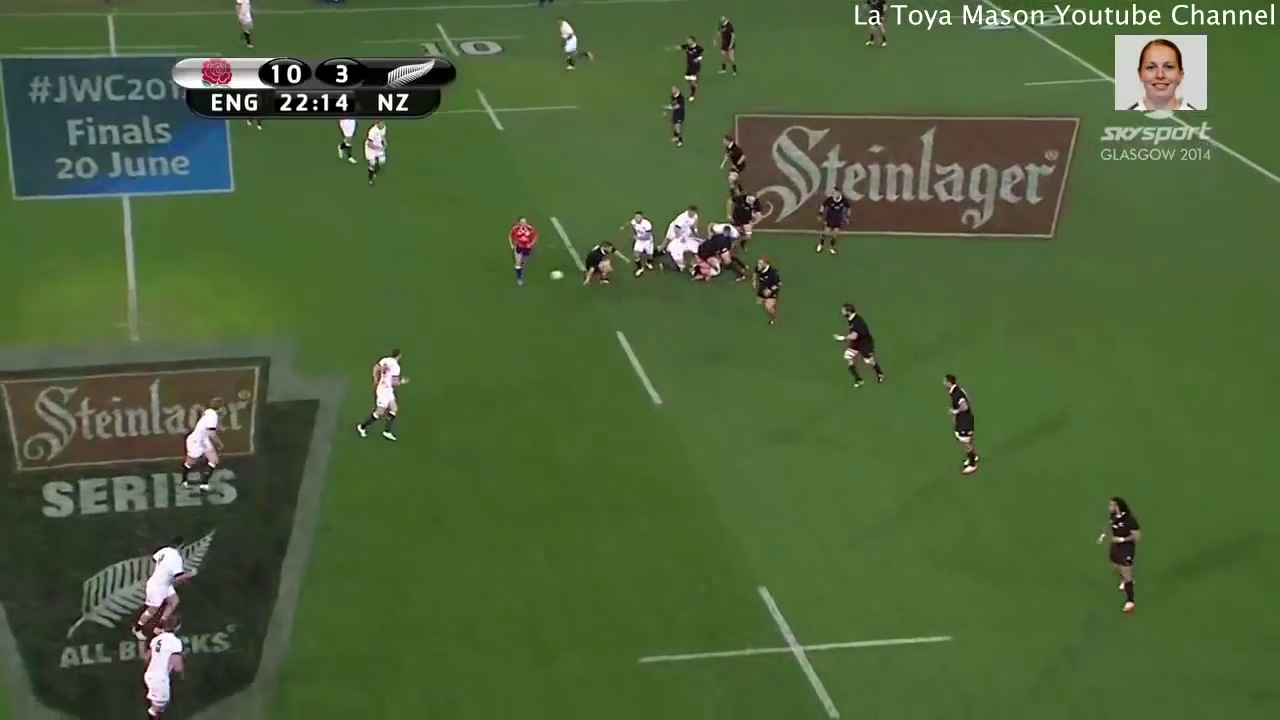10_metre: (634, 581, 964, 720), (383, 88, 585, 139), (355, 20, 529, 62)
ball: (546, 263, 569, 286)
player: (124, 528, 197, 648), (1090, 491, 1147, 620), (129, 609, 189, 720), (935, 368, 992, 480), (353, 343, 413, 444), (829, 299, 889, 392), (178, 396, 233, 490), (741, 248, 791, 330), (687, 226, 752, 286), (807, 185, 853, 264), (660, 31, 709, 100), (618, 204, 659, 284), (497, 208, 539, 284), (547, 11, 598, 71), (573, 233, 621, 288), (712, 13, 743, 81), (363, 121, 393, 188), (661, 80, 690, 148), (710, 130, 753, 174), (329, 117, 363, 171), (723, 185, 760, 232), (661, 200, 709, 232), (857, 25, 891, 49)
